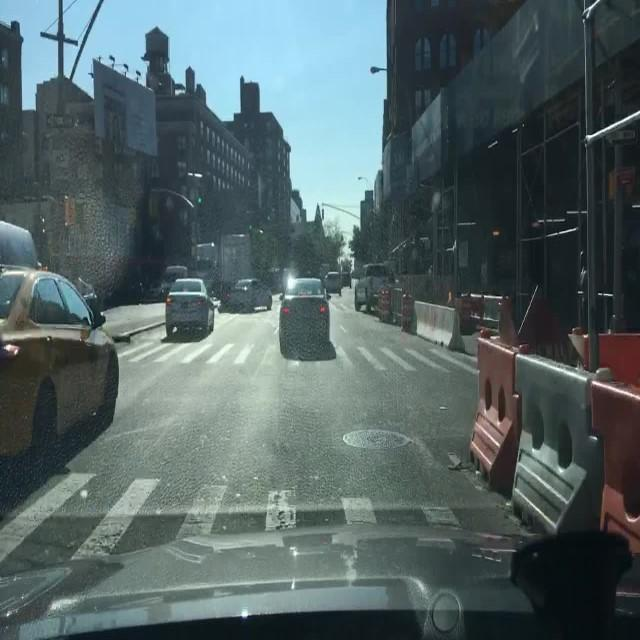normal: (266, 257, 349, 372), (167, 275, 219, 338), (351, 263, 387, 314), (225, 279, 274, 312), (163, 265, 187, 283)
